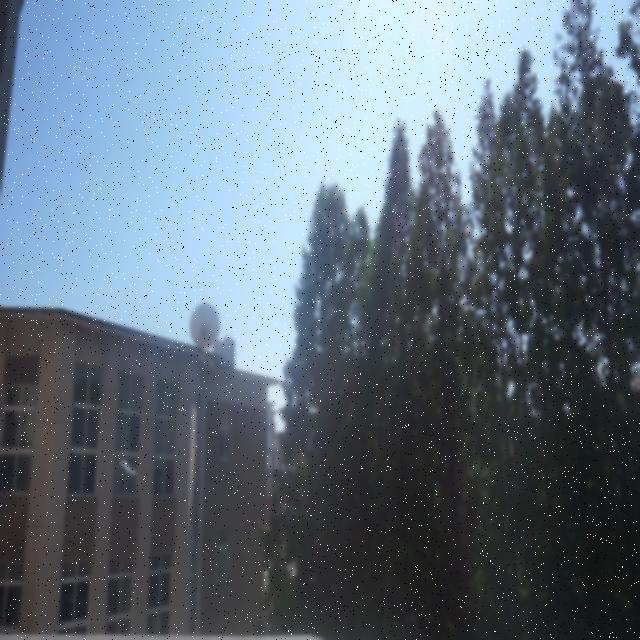UAV: (119, 459, 136, 478)
